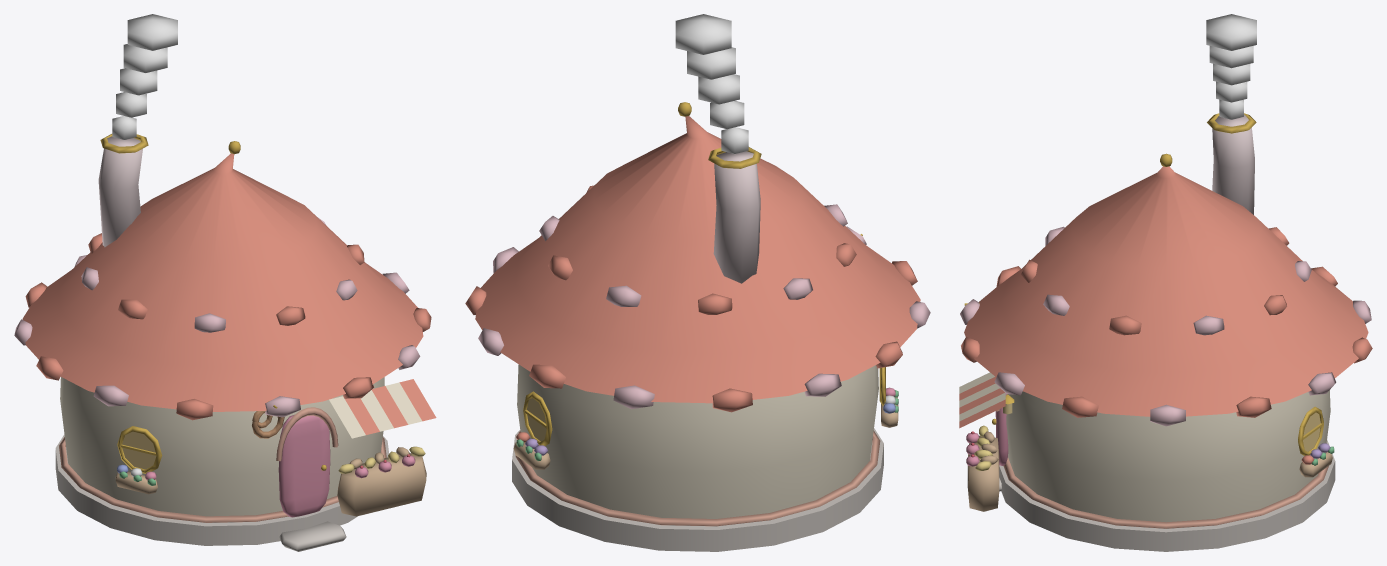
Rendered from fae_bakery.gltf.
3 renders of one model, left to right at view 1: azimuth 30°, elevation 25°; view 2: azimuth 150°, elevation 25°; view 3: azimuth 270°, elevation 25°, orthographic. The views are drawn at different scales.
Parts seen in each view (by area): view 1: fae_bakery; view 2: fae_bakery; view 3: fae_bakery.
Boxes of the visible parts, x1,y1,x2,y2 form: fae_bakery: [14, 14, 436, 551]; fae_bakery: [465, 14, 930, 551]; fae_bakery: [959, 14, 1372, 551].
Size of what is drawn, in the model's own units: 7.72 by 8.95 by 7.59.
